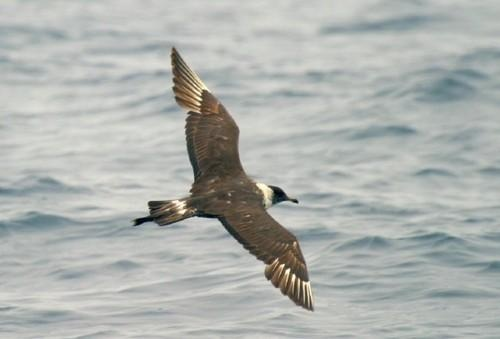bird: (131, 47, 318, 314)
